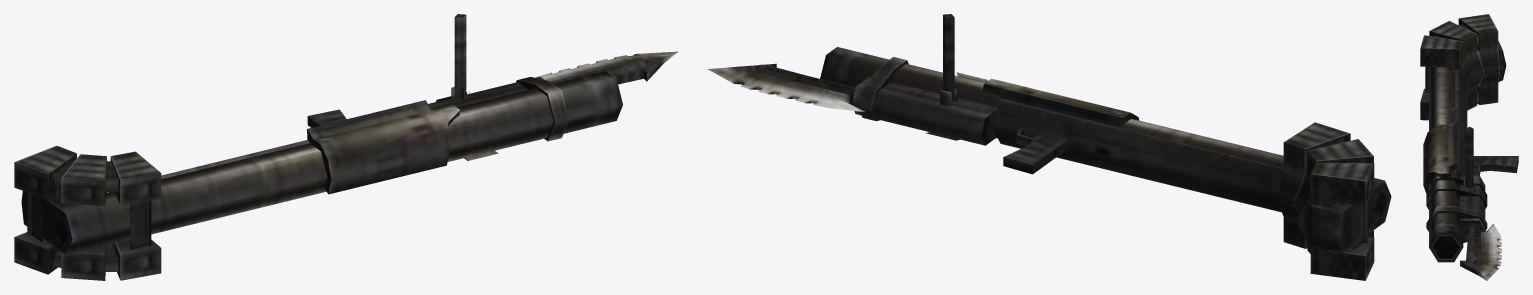
Rendered from weapon-kalina-ann.glb.
The picture shows the model from 3 angles, left to right: view 1: azimuth 30°, elevation 25°; view 2: azimuth 150°, elevation 25°; view 3: azimuth 270°, elevation 25°; orthographic projection. The views are drawn at different scales.
Parts seen in each view (by area): view 1: weapon; view 2: weapon; view 3: weapon.
Part boxes in pixels (box(x1,y1,x2,y2)): weapon: box(14, 14, 677, 280); weapon: box(707, 14, 1391, 280); weapon: box(1420, 14, 1518, 280).
Bounding box in the file's own units: 1.5 × 0.3268 × 0.27.
Materials: 1 (1 with a texture image).
